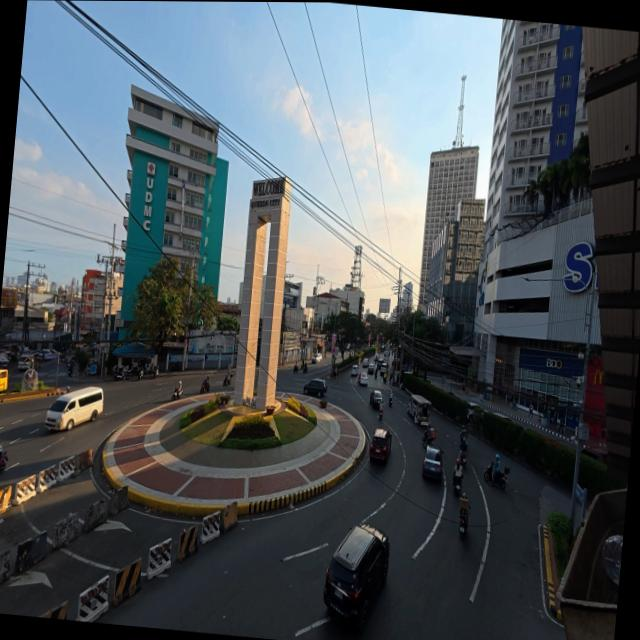Jeepneys: (408, 395, 431, 425)
bus: (383, 349, 389, 359)
car: (323, 525, 389, 630), (370, 429, 392, 462), (423, 445, 443, 479), (302, 377, 328, 397), (581, 447, 607, 464), (467, 401, 483, 417), (38, 349, 59, 360), (493, 412, 514, 423), (370, 390, 382, 408), (359, 372, 368, 386), (379, 360, 388, 373), (312, 353, 322, 363), (361, 356, 369, 368), (351, 365, 358, 377), (374, 354, 380, 364), (368, 364, 374, 374), (344, 343, 350, 351)
motorcycle: (484, 462, 510, 489), (459, 496, 470, 536), (422, 426, 436, 447), (459, 508, 469, 536), (129, 365, 144, 379), (453, 476, 462, 495), (145, 365, 159, 377), (114, 367, 126, 381), (0, 451, 7, 472), (171, 388, 182, 401), (200, 380, 210, 394), (459, 450, 467, 467), (422, 429, 429, 447), (223, 374, 232, 386), (460, 436, 467, 451), (379, 404, 383, 420), (303, 362, 308, 373), (68, 366, 72, 378), (388, 396, 392, 407), (293, 365, 298, 373)
vans: (45, 388, 103, 430), (18, 356, 33, 371)
